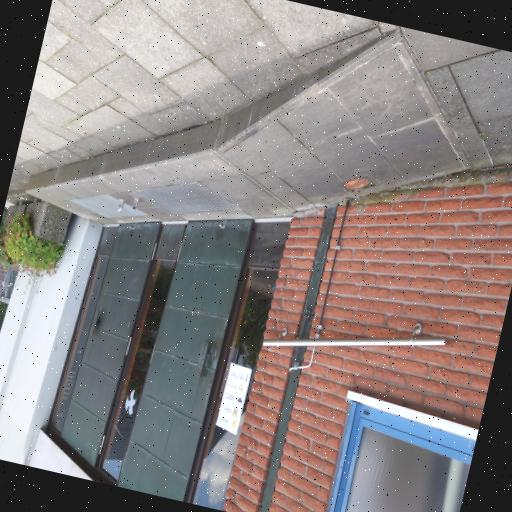ramp: (201, 3, 494, 250)
